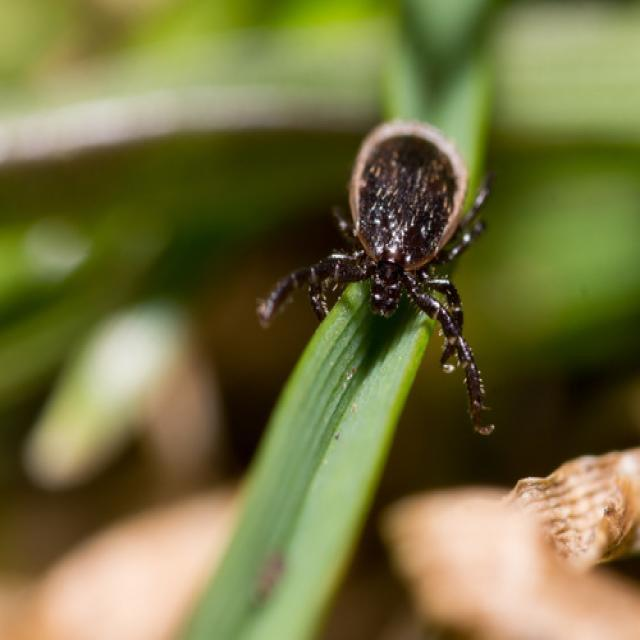Ixodes Ricinus-M: (257, 120, 497, 433)
